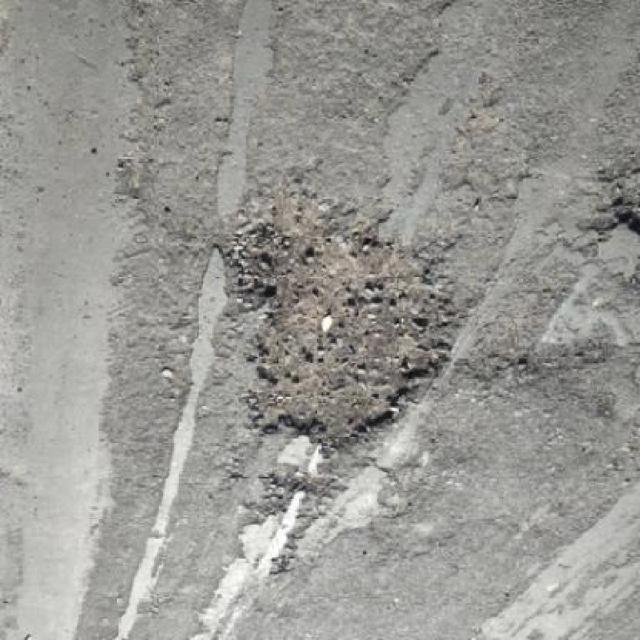pothole: (222, 193, 460, 453)
